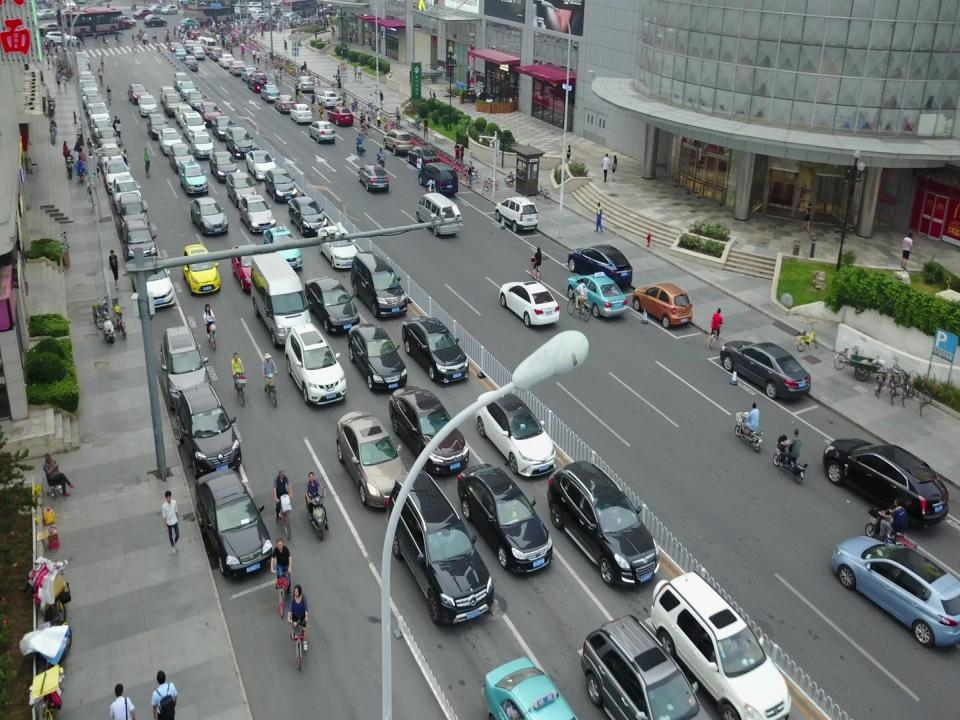car: (648, 568, 799, 720), (382, 473, 494, 626), (579, 610, 726, 720), (544, 453, 662, 587), (829, 528, 960, 648), (455, 463, 552, 576), (192, 464, 274, 580), (332, 409, 418, 513), (823, 434, 952, 498), (475, 388, 557, 476), (389, 383, 471, 471), (172, 382, 244, 473), (480, 656, 580, 720), (715, 339, 811, 399), (283, 322, 346, 406), (402, 313, 469, 387), (158, 325, 214, 406), (348, 324, 408, 395), (349, 249, 409, 319), (304, 276, 360, 335), (498, 280, 559, 326), (129, 253, 177, 310), (566, 271, 626, 315), (181, 243, 222, 295), (231, 241, 271, 291), (316, 224, 360, 268), (262, 225, 303, 271), (288, 195, 330, 238), (119, 219, 159, 262), (495, 195, 539, 233), (238, 194, 278, 235), (190, 195, 228, 235), (117, 191, 150, 231), (109, 174, 142, 213), (226, 172, 264, 204), (179, 157, 209, 196), (245, 150, 277, 182), (225, 124, 256, 157), (101, 160, 133, 191), (209, 150, 241, 180), (180, 109, 210, 137), (169, 143, 196, 173), (156, 129, 182, 159), (212, 115, 242, 140), (189, 130, 215, 156), (190, 131, 216, 156), (147, 113, 171, 138), (174, 104, 198, 127), (200, 102, 222, 126), (137, 94, 159, 118), (162, 92, 184, 113), (128, 82, 149, 103), (159, 86, 178, 105), (173, 71, 191, 90), (180, 81, 200, 98), (186, 91, 208, 106)
van: (246, 252, 316, 347), (413, 193, 461, 237)
